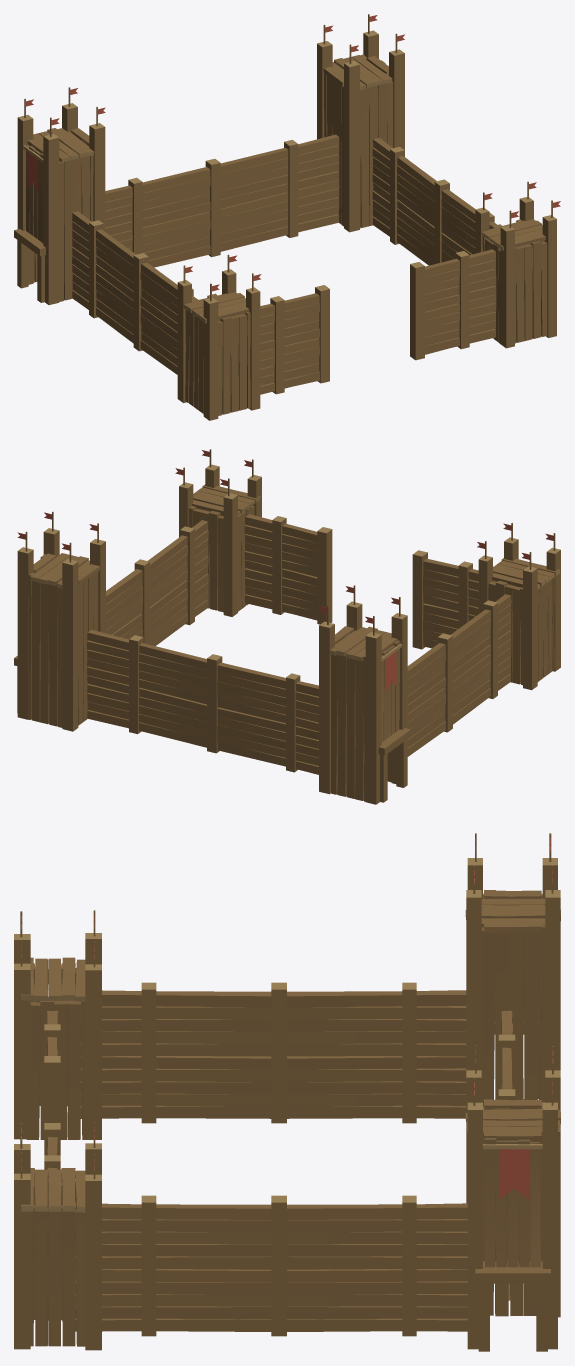
The model's file is Wooden Encampment.glb.
3 renders of one model, top to bottom at view 1: azimuth 30°, elevation 25°; view 2: azimuth 150°, elevation 25°; view 3: azimuth 270°, elevation 25°, orthographic. The views are drawn at different scales.
Visible parts, largest first — view 1: WonderWalls_FirstAge; view 2: WonderWalls_FirstAge; view 3: WonderWalls_FirstAge.
Part boxes in pixels (bbox=[...]): WonderWalls_FirstAge: bbox=[14, 14, 560, 420]; WonderWalls_FirstAge: bbox=[14, 449, 560, 804]; WonderWalls_FirstAge: bbox=[14, 833, 560, 1351].
Bounding box in the file's own units: 2.2 × 1.07 × 1.95.
